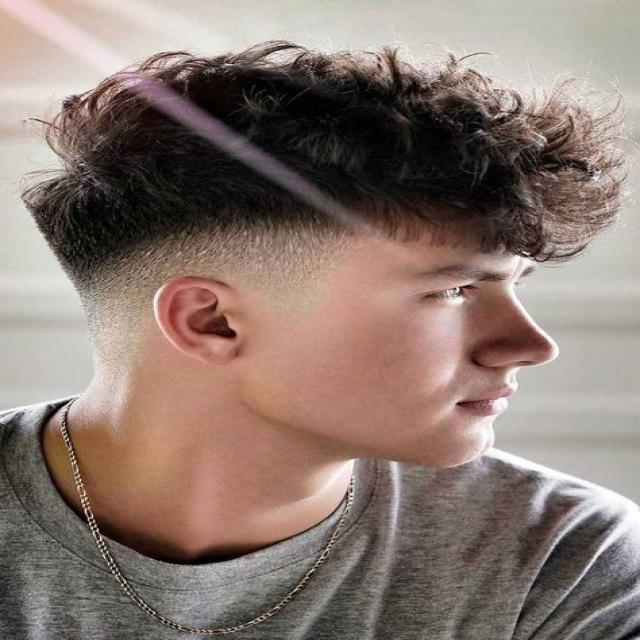Healthy: (75, 356, 417, 538)
